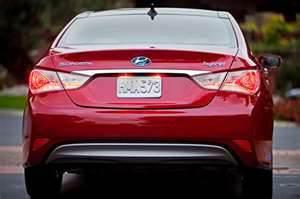Car: (18, 2, 285, 199)
